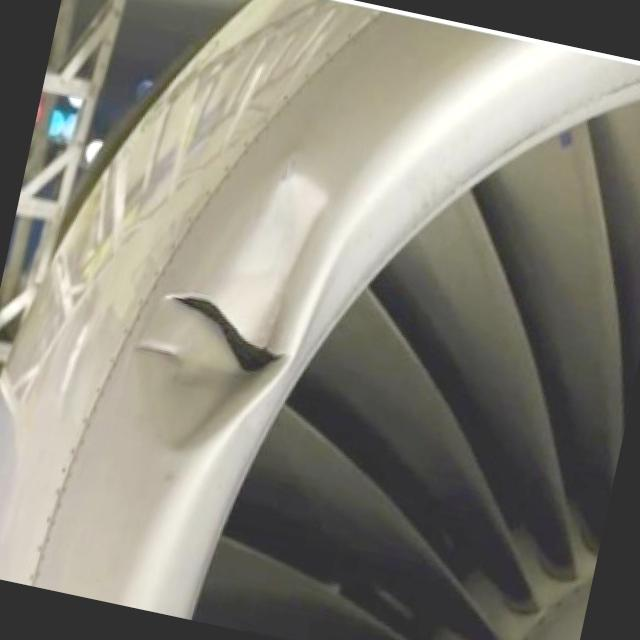crack: (150, 282, 298, 382)
